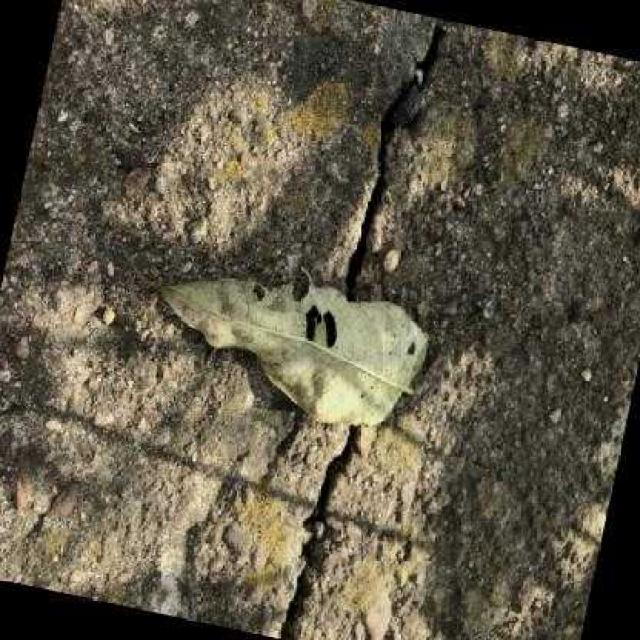D00: (341, 17, 445, 301), (275, 416, 363, 640)
